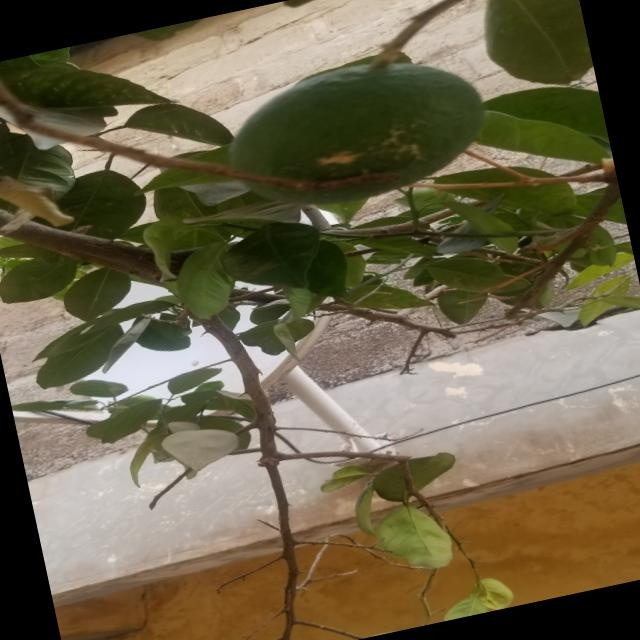agrume: (194, 31, 502, 244)
